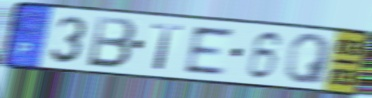3: (48, 14, 88, 65)
6: (247, 30, 283, 82)
B: (85, 14, 138, 71)
E: (183, 25, 236, 76)
Q: (283, 32, 334, 86)
T: (150, 22, 186, 72)
